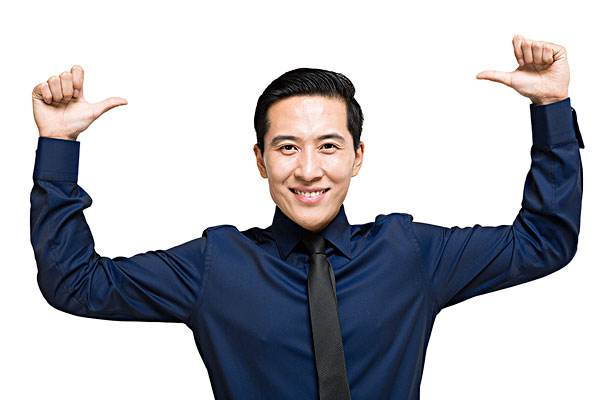no-phone: (29, 63, 131, 136), (472, 30, 573, 101)
